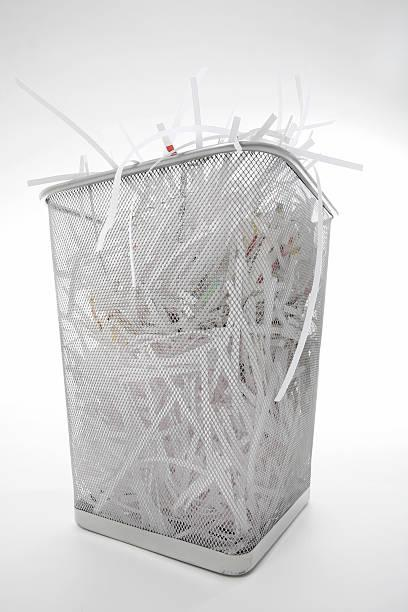paper: (12, 72, 348, 578)
